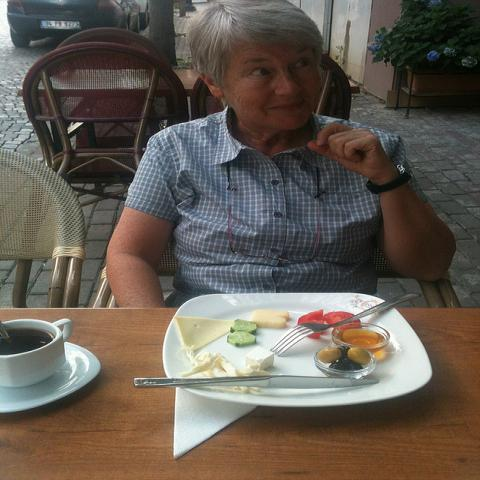car: (7, 0, 145, 49)
